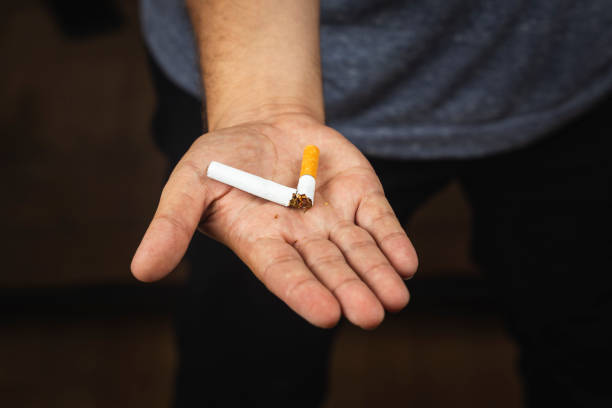cigarette: (203, 160, 297, 212), (296, 143, 320, 214)
